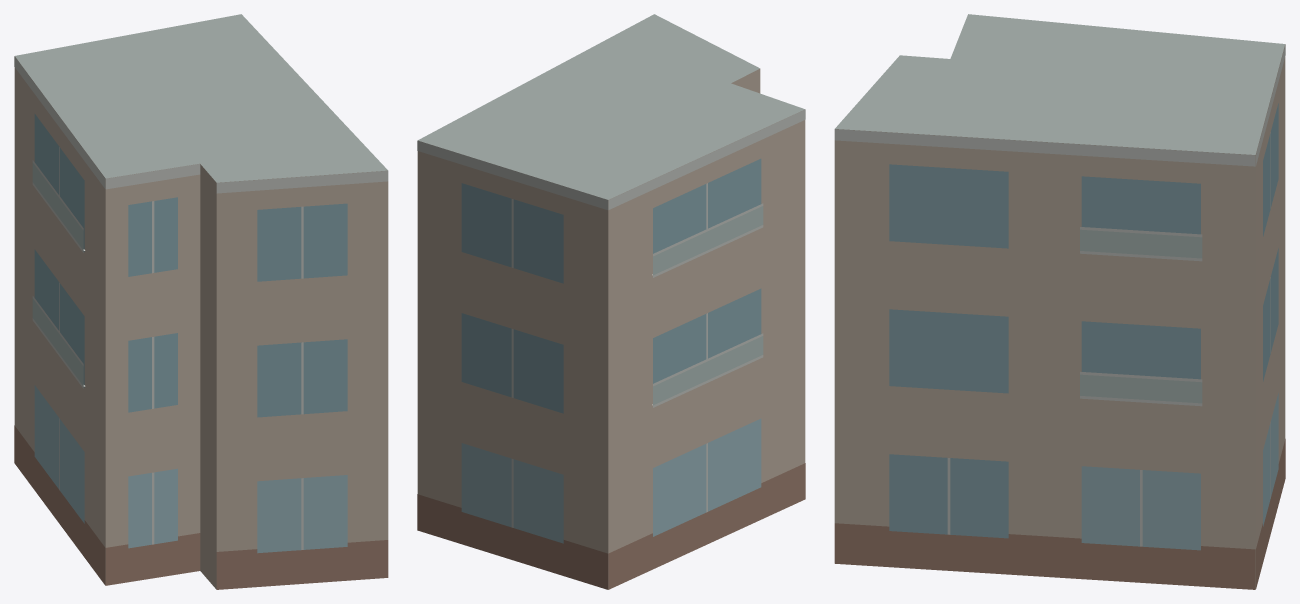
The model's file is survey-upis-32460060.glb.
The picture shows the model from 3 angles, left to right: view 1: azimuth 30°, elevation 25°; view 2: azimuth 150°, elevation 25°; view 3: azimuth 270°, elevation 25°; orthographic projection. The views are drawn at different scales.
Parts seen in each view (by area): view 1: survey-upis-32460060.tmp; view 2: survey-upis-32460060.tmp; view 3: survey-upis-32460060.tmp.
Part boxes in pixels (left/top/right/bottom): survey-upis-32460060.tmp: left=14, top=14, right=388, bottom=589; survey-upis-32460060.tmp: left=417, top=14, right=805, bottom=589; survey-upis-32460060.tmp: left=834, top=14, right=1285, bottom=589.
Bounding box in the file's own units: 6.37 × 9.15 × 8.6.
